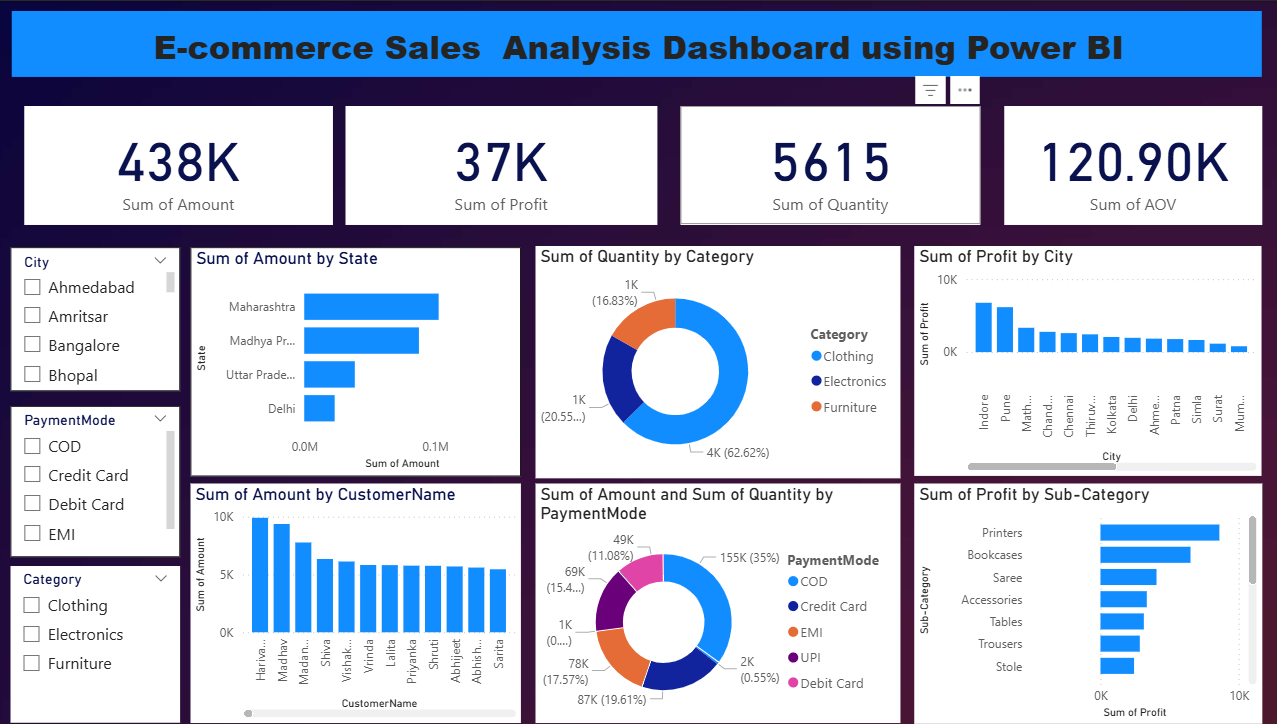

Layout of this report page (visuals, bound fields, positions):
{"tool":"powerbi","page":{"name":"Page 1","canvas":[1280,720],"ordinal":0},"visuals":[{"type":"barChart","fields":{"Y":["Sum(Details-1.Amount)"],"Category":["Orders.State"]},"box":[191.9,245.3,328.9,228],"z":0},{"type":"columnChart","fields":{"Category":["Orders.CustomerName"],"Y":["Sum(Details-1.Amount)"]},"box":[191.9,480.4,328.9,238.1],"z":1000},{"type":"textbox","box":[13.7,10,1244,65.9],"z":2000},{"type":"slicer","fields":{"Values":["Orders.City"]},"box":[13,245.3,168.8,142.8],"z":3000},{"type":"slicer","fields":{"Values":["Details-1.PaymentMode"]},"box":[13,402.5,168.8,150],"z":4000},{"type":"slicer","fields":{"Values":["Details-1.Category"]},"box":[13,562.7,168.8,155.8],"z":5000},{"type":"card","fields":{"Values":["Sum(Details-1.Profit)"]},"box":[346.3,103.9,310.2,118.3],"z":6000},{"type":"card","fields":{"Values":["Sum(Details-1.Quantity)"]},"box":[679.5,103.9,298.7,118.3],"z":7000},{"type":"card","fields":{"Values":["Sum(Details-1.AOV)"]},"box":[1001.3,103.9,256.8,118.3],"z":8000},{"type":"card","fields":{"Values":["Sum(Details-1.Amount)"]},"box":[26,103.9,307.3,118.3],"z":9000},{"type":"donutChart","fields":{"Category":["Details-1.Category"],"Y":["Sum(Details-1.Quantity)"]},"box":[535.3,243.8,363.6,230.8],"z":10000},{"type":"columnChart","fields":{"Category":["Orders.City"],"Y":["Sum(Details-1.Profit)"]},"box":[911.8,243.8,345.8,228.9],"z":11000},{"type":"barChart","fields":{"Category":["Details-1.Sub-Category"],"Y":["Sum(Details-1.Profit)"]},"box":[912,480,346,239],"z":12000},{"type":"donutChart","fields":{"Y":["Sum(Details-1.Amount)","Sum(Details-1.Quantity)"],"Category":["Details-1.PaymentMode"]},"box":[535.3,480.4,363.6,238.1],"z":13000}]}

Visuals, with their boxes in screenshot pixels (x1, y1, x2, y2), scaled from the page's 1280x720 canvas onto the 1277x724 screenshot:
barChart - Sum(Details-1.Amount) x Orders.State: (191,247,520,476)
columnChart - Orders.CustomerName x Sum(Details-1.Amount): (191,483,520,722)
textbox: (14,10,1255,76)
slicer - Orders.City: (13,247,181,390)
slicer - Details-1.PaymentMode: (13,405,181,556)
slicer - Details-1.Category: (13,566,181,722)
card - Sum(Details-1.Profit): (345,104,655,223)
card - Sum(Details-1.Quantity): (678,104,976,223)
card - Sum(Details-1.AOV): (999,104,1255,223)
card - Sum(Details-1.Amount): (26,104,333,223)
donutChart - Details-1.Category x Sum(Details-1.Quantity): (534,245,897,477)
columnChart - Orders.City x Sum(Details-1.Profit): (910,245,1255,475)
barChart - Details-1.Sub-Category x Sum(Details-1.Profit): (910,483,1255,723)
donutChart - Sum(Details-1.Amount) x Sum(Details-1.Quantity): (534,483,897,722)
